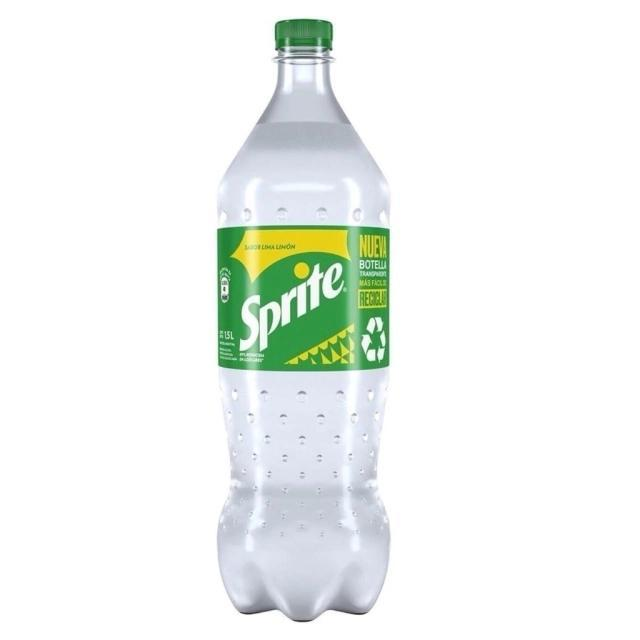sprite: (204, 11, 406, 625)
